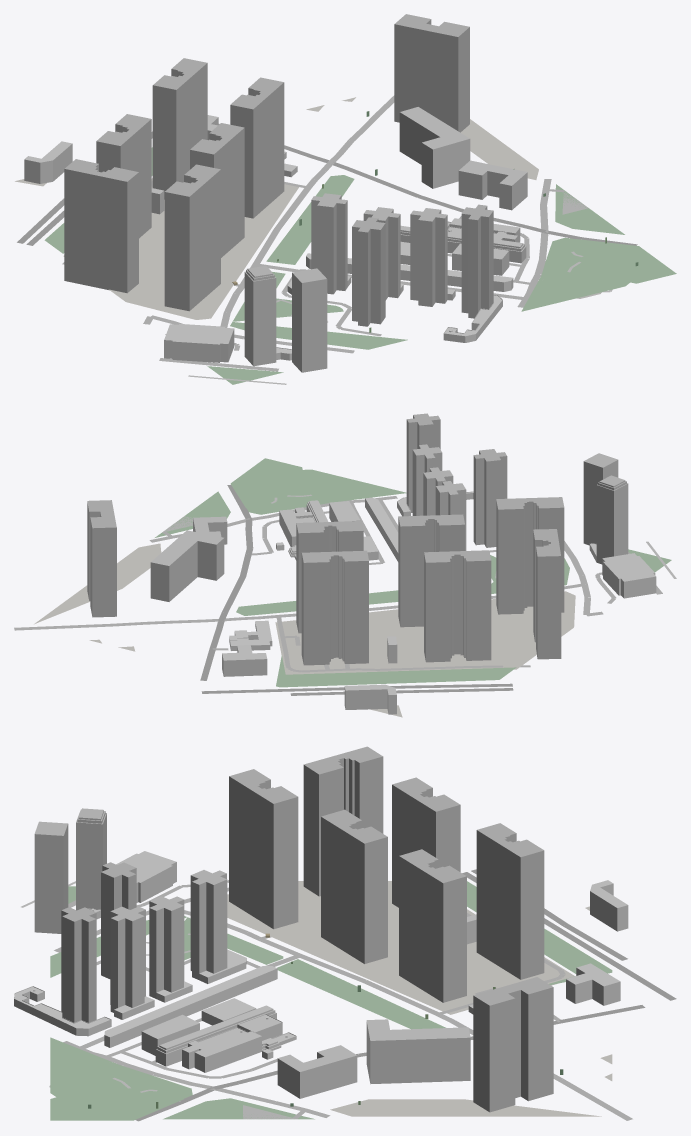
3 views of the same model, one above another, from view 1: azimuth 30°, elevation 25°; view 2: azimuth 150°, elevation 25°; view 3: azimuth 270°, elevation 25° (orthographic). The views are drawn at different scales.
Bounding box in the file's own units: 548 × 128 × 590.
